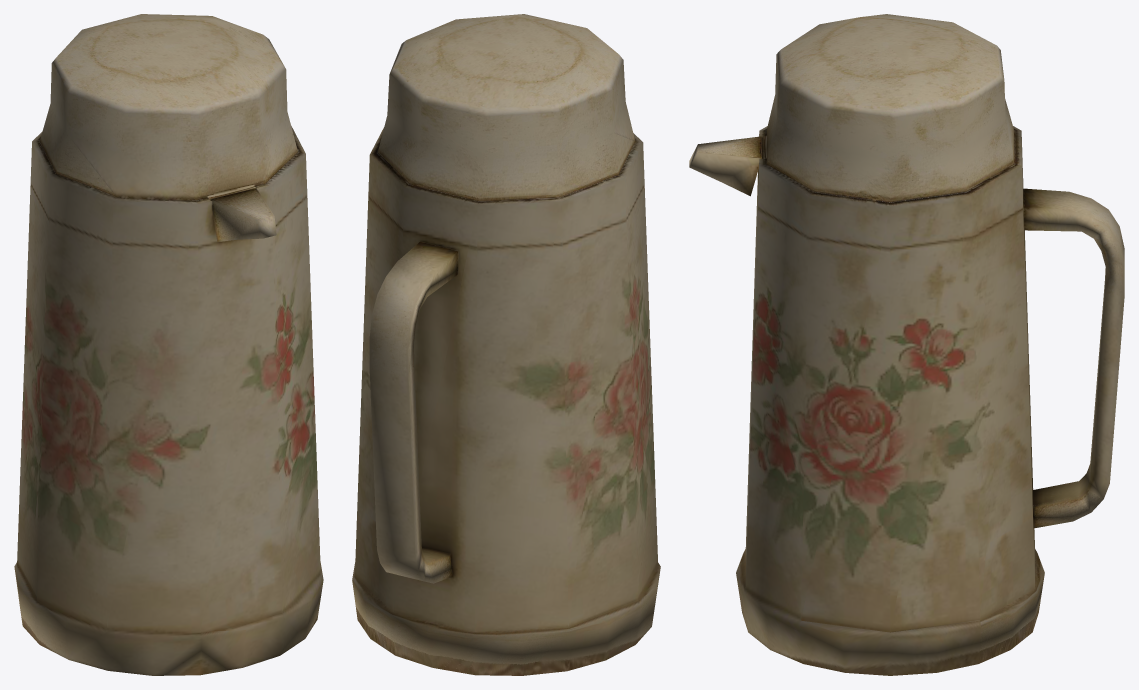
File: Tea Pourer.fbx
3 views of the same model, side by side, from view 1: azimuth 30°, elevation 25°; view 2: azimuth 150°, elevation 25°; view 3: azimuth 270°, elevation 25° (orthographic).
Parts seen in each view (by area): view 1: tripo_node_007281a0-8c88-47b1-973a-33e4ed846c86; view 2: tripo_node_007281a0-8c88-47b1-973a-33e4ed846c86; view 3: tripo_node_007281a0-8c88-47b1-973a-33e4ed846c86.
Boxes of the visible parts, bbox=[...] form: tripo_node_007281a0-8c88-47b1-973a-33e4ed846c86: bbox=[14, 14, 323, 675]; tripo_node_007281a0-8c88-47b1-973a-33e4ed846c86: bbox=[352, 14, 660, 675]; tripo_node_007281a0-8c88-47b1-973a-33e4ed846c86: bbox=[689, 14, 1124, 675].
Size of the model in its own units: 49.41 by 99.8 by 69.34.
1 material, 1 textured.
